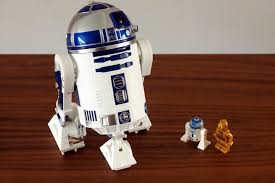r2d2: (48, 1, 152, 170), (181, 117, 212, 150)
